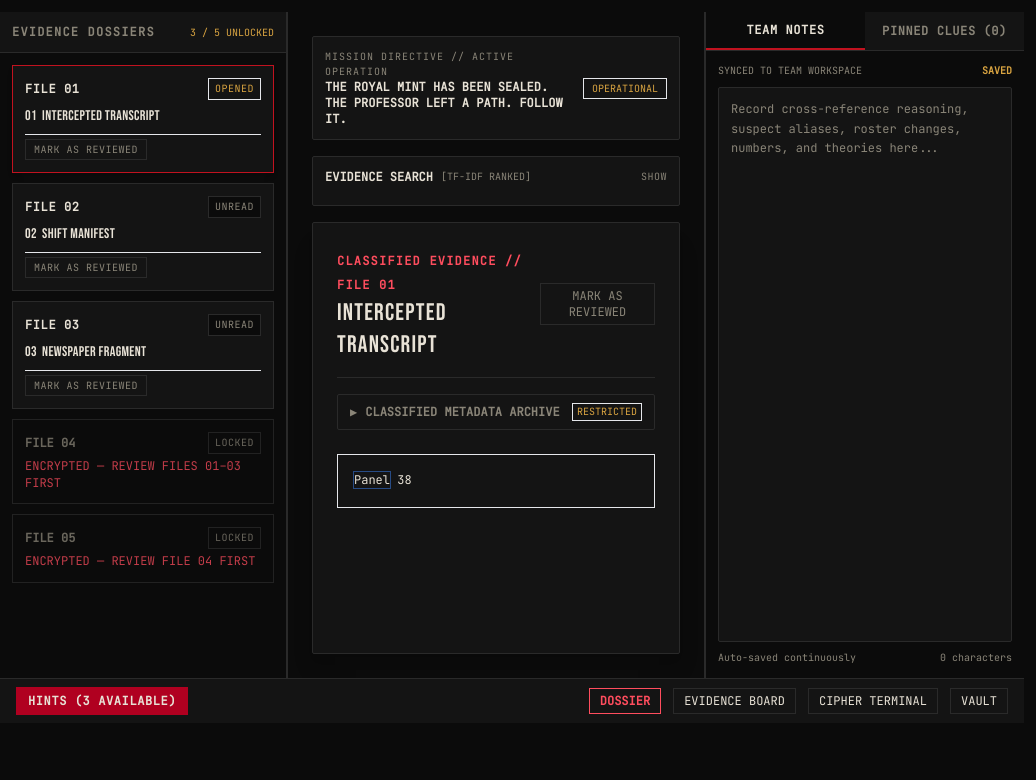
Test: Phase 3 Verification: Control Room & Investigation Tools › P3-09: Keyboard-only path exists for: open file, select range, mark it, add note, open hints
Press Enter in the button "01 INTERCEPTED TRANSCRIPT", box [25,106,261,126]
Replace the text in the text box named "Team Investigation Notes" with "Keyboard note added" at point(865, 364), box [718,87,1012,642]
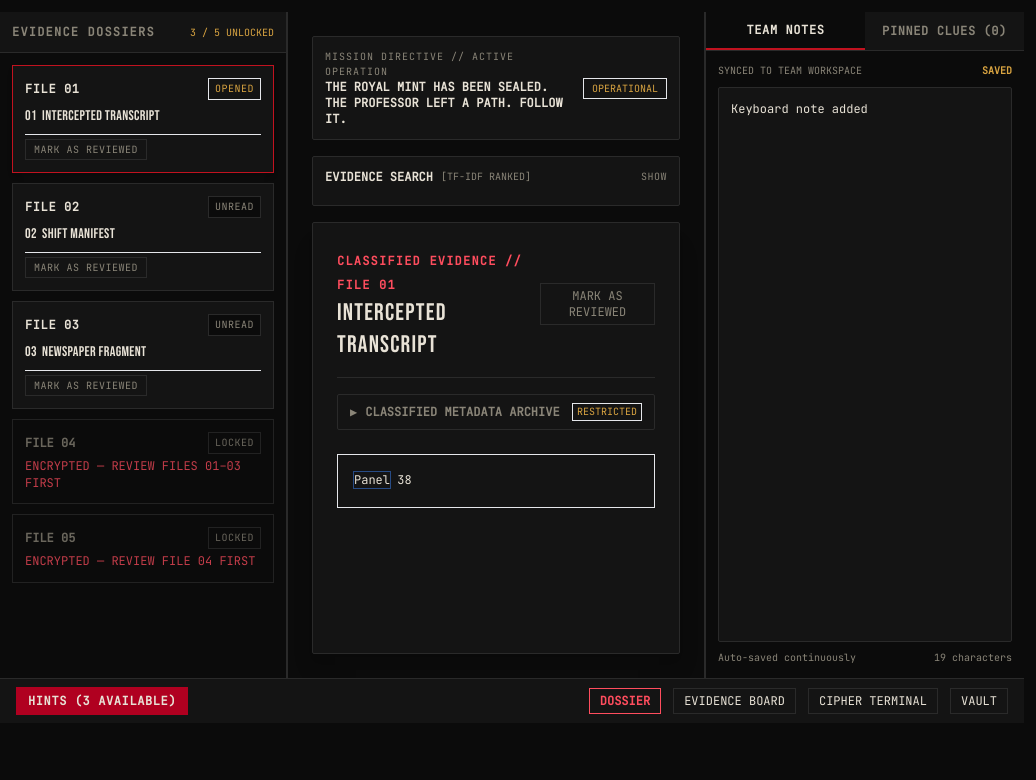
Click the button "HINTS (3 AVAILABLE)" at point(102, 701), box [16,687,188,715]
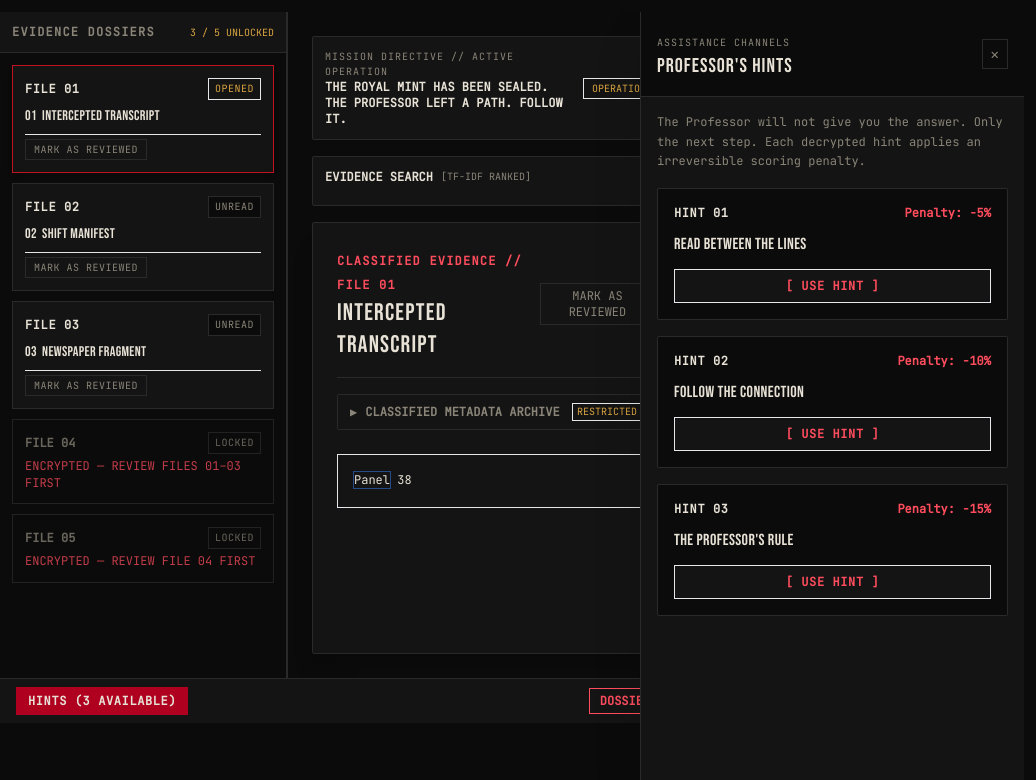
Expected: the element named "Hint Dossier Drawer" is shown, [640,12,1024,779]
